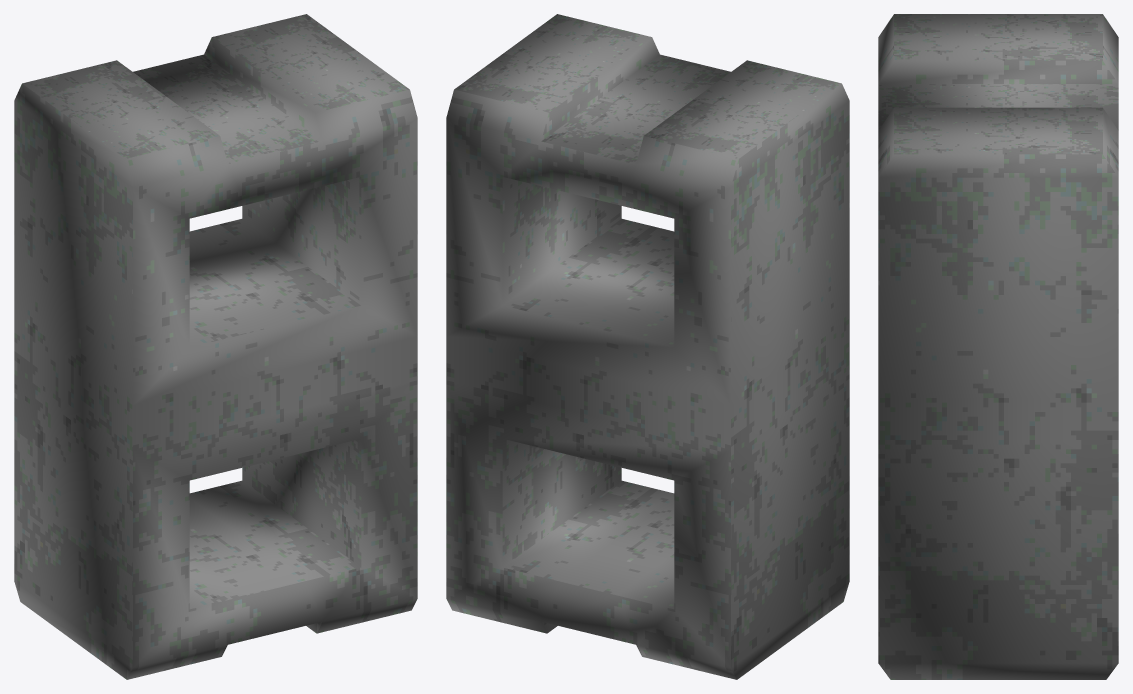
The model's file is beton.glb.
3 renders of one model, left to right at view 1: azimuth 30°, elevation 25°; view 2: azimuth 150°, elevation 25°; view 3: azimuth 270°, elevation 25°, orthographic.
Parts seen in each view (by area): view 1: Cinder_Block_1; view 2: Cinder_Block_1; view 3: Cinder_Block_1.
Part boxes in pixels (left/top/right/bottom): Cinder_Block_1: left=14, top=14, right=417, bottom=679; Cinder_Block_1: left=446, top=14, right=849, bottom=679; Cinder_Block_1: left=878, top=14, right=1118, bottom=679.
Size of the model in its own units: 0.6744 by 1.18 by 0.4875.
Materials: 1 (1 with a texture image).
